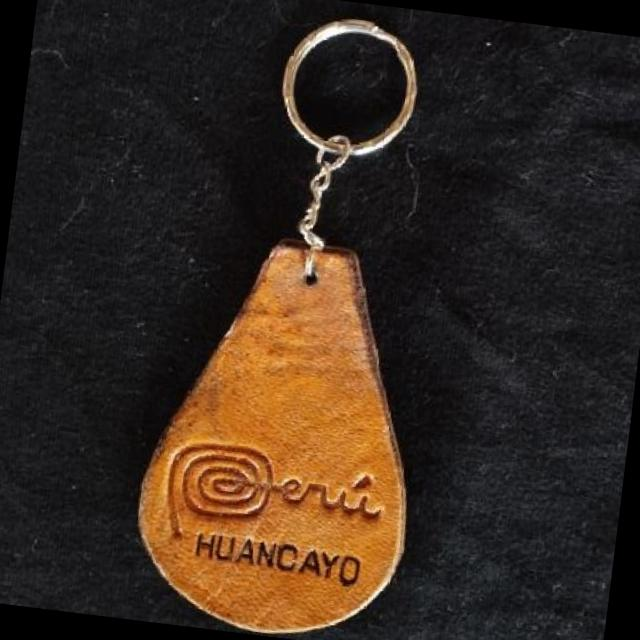Llavero: (122, 220, 441, 640)
